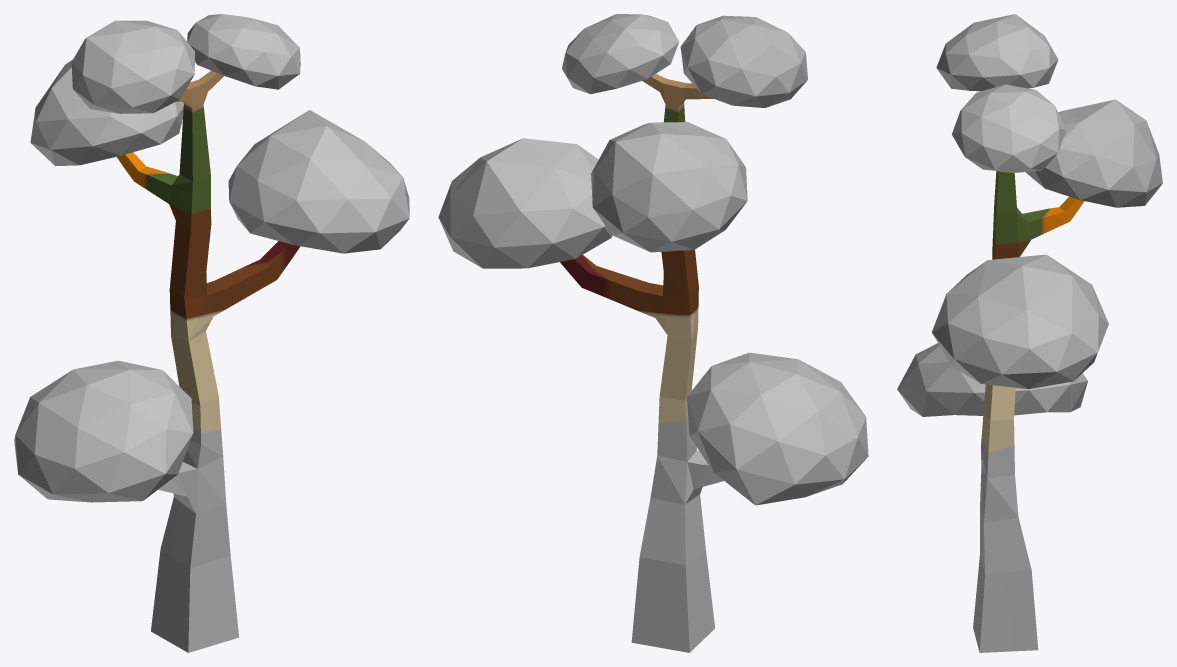
The model's file is Tree_31.fbx.
3 renders of one model, left to right at view 1: azimuth 30°, elevation 25°; view 2: azimuth 150°, elevation 25°; view 3: azimuth 270°, elevation 25°, orthographic. The views are drawn at different scales.
Visible parts, largest first — view 1: Tree_31; view 2: Tree_31; view 3: Tree_31.
Boxes of the visible parts, bbox=[...] form: Tree_31: bbox=[14, 14, 409, 652]; Tree_31: bbox=[438, 14, 868, 652]; Tree_31: bbox=[897, 14, 1162, 652].
Bounding box in the file's own units: 5.48 × 8.46 × 3.5.
